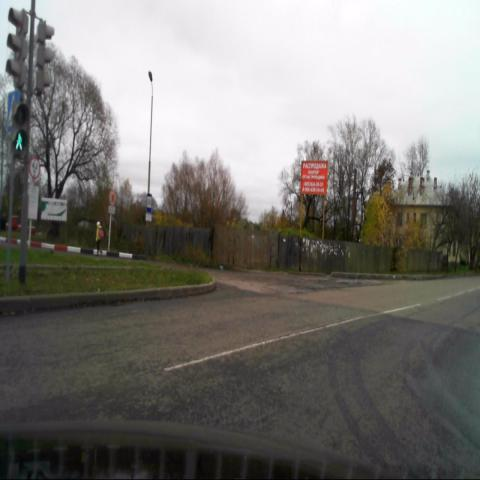3_13: (29, 156, 42, 179)
